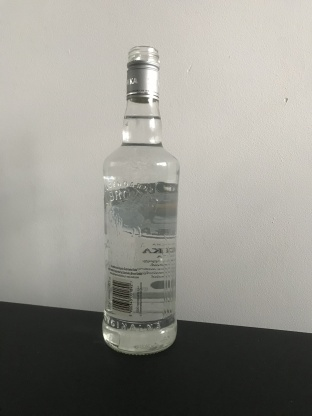nakretka: (124, 43, 161, 104)
